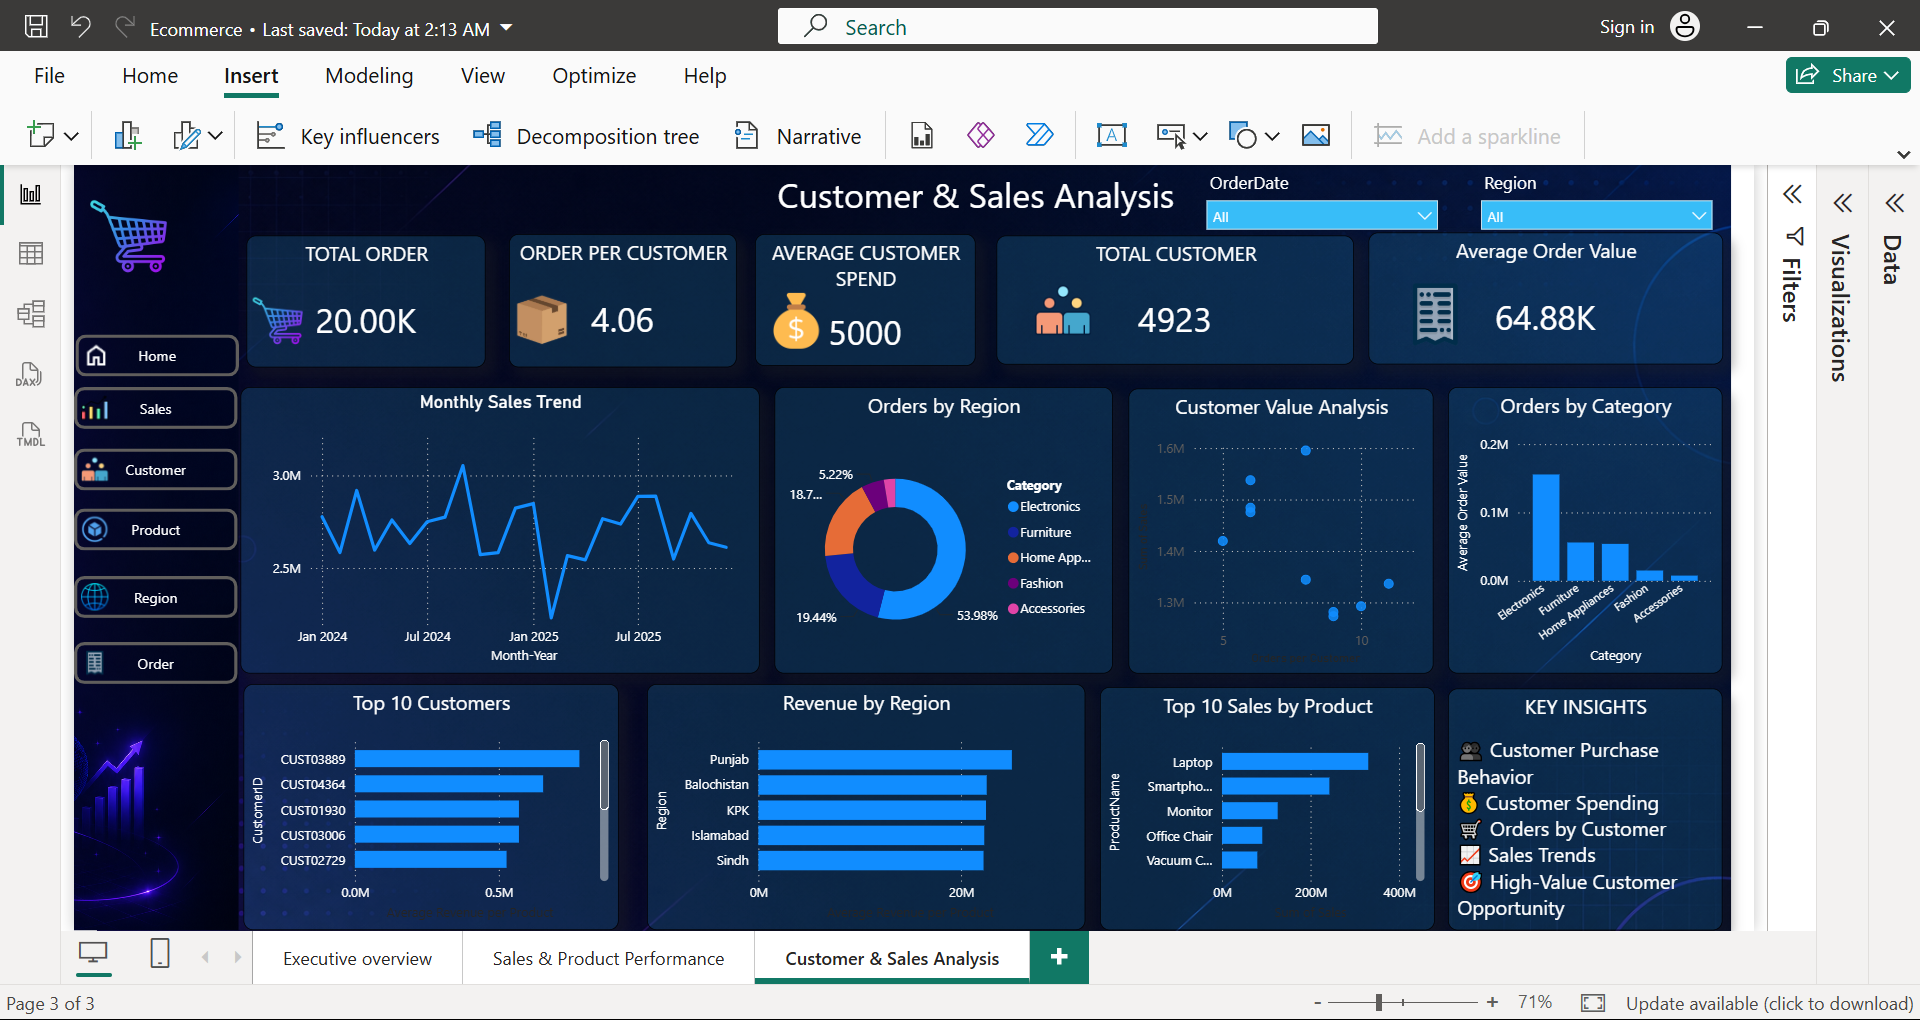

What the dashboard file says about the page in this screenshot:
{"tool":"powerbi","page":{"name":"Customer & Sales Analysis","canvas":[1580,720],"ordinal":2},"visuals":[{"type":"card","title":"TOTAL ORDER","fields":{"Values":["Count(ecommerce_orders.OrderID)"]},"box":[162.6,66.9,224.7,124.3],"z":0},{"type":"image","box":[162.6,117.9,59,55.8],"z":1000},{"type":"card","title":"ORDER PER CUSTOMER","fields":{"Values":["customers.Orders per Customer"]},"box":[409.3,65.1,214.3,125.5],"z":2000},{"type":"card","title":"AVERAGE CUSTOMER SPEND","fields":{"Values":["CountNonNull(customers.Average Customer Spending)"]},"box":[640.5,65.1,207.4,124.2],"z":3000},{"type":"card","title":"Average Order Value","fields":{"Values":["customers.Average Order Value"]},"box":[1216.1,63.8,333.1,124.3],"z":4000},{"type":"card","title":"TOTAL CUSTOMER","fields":{"Values":["Count(ecommerce_orders.CustomerID)"]},"box":[867,66.9,336.3,121.1],"z":5000},{"type":"image","box":[0,0,154.4,719.2],"z":6000},{"type":"image","box":[5.6,24,91.6,86],"z":7000},{"type":"textbox","box":[135.5,0,1424.9,66.9],"z":8000},{"type":"image","box":[884.6,110,90.8,52.6],"z":9000},{"type":"image","box":[1236.8,106.8,86.1,66.9],"z":10000},{"type":"lineChart","title":"Monthly Sales Trend","fields":{"Category":["ecommerce_orders.OrderDate.Variation.Date Hierarchy.Year","ecommerce_orders.OrderDate.Variation.Date Hierarchy.Month"],"Y":["customers.Average Revenue per Product"]},"box":[156.5,208.7,487.8,269.3],"z":11000},{"type":"donutChart","title":"Orders by Region","fields":{"Category":["products.Category"],"Y":["customers.Average Order Value"]},"box":[657.9,209.3,317.7,269.1],"z":12000},{"type":"scatterChart","title":"Customer Value Analysis","fields":{"X":["customers.Orders per Customer"],"Y":["Sum(ecommerce_orders.Sales)"],"Category":["customers.CustomerID"]},"box":[991.4,209.9,286.9,268.3],"z":13000},{"type":"clusteredBarChart","title":"Top 10 Customers","fields":{"Category":["customers.CustomerID"],"Y":["customers.Average Revenue per Product"]},"box":[159.3,487.8,352.5,231.2],"z":14000},{"type":"clusteredBarChart","title":"Revenue by Region","fields":{"Category":["customers.Region"],"Y":["customers.Average Revenue per Product"]},"box":[538.6,487.8,411.7,231.2],"z":15000},{"type":"clusteredBarChart","title":"Top 10 Sales by Product","fields":{"Category":["ecommerce_orders.ProductName"],"Y":["Sum(ecommerce_orders.Sales)"]},"box":[964.4,490.7,314.4,228.4],"z":16000},{"type":"clusteredColumnChart","title":"Orders by Category","fields":{"Category":["products.Category"],"Y":["customers.Average Order Value"]},"box":[1291.5,209.3,257.9,269.1],"z":17000},{"type":"textbox","title":"KEY INSIGHTS","box":[1291.5,492.1,258,227],"z":18000},{"type":"slicer","fields":{"Values":["ecommerce_orders.OrderDate"]},"box":[1054.2,0,237.4,63.5],"z":19000},{"type":"slicer","fields":{"Values":["ecommerce_orders.Region"]},"box":[1312.1,0,237.4,63.5],"z":20000},{"type":"actionButton","box":[1.4,159.3,153.7,39.5],"z":21000},{"type":"actionButton","box":[0,208.8,153.7,39.5],"z":22000},{"type":"actionButton","box":[0,266.2,153.7,39.5],"z":23000},{"type":"actionButton","box":[0,323.5,153.7,39.5],"z":24000},{"type":"actionButton","box":[0,385.7,153.7,39.5],"z":25000},{"type":"actionButton","box":[0,447.9,153.7,39.5],"z":26000},{"type":"image","box":[641.1,117.8,74.8,56.1],"z":27000},{"type":"image","box":[409.3,106.5,61.7,76.6],"z":28000}]}

Visuals, with their boxes on the page's 1580x720 design canvas (x1, y1, x2, y2). These are canvas units, not pixel positions in the 1920x1020 screenshot, which may show the page scaled, cropped or inside an application window:
"TOTAL ORDER" card: bbox=[163, 67, 387, 191]
image: bbox=[163, 118, 222, 174]
"ORDER PER CUSTOMER" card: bbox=[409, 65, 624, 191]
"AVERAGE CUSTOMER SPEND" card: bbox=[640, 65, 848, 189]
"Average Order Value" card: bbox=[1216, 64, 1549, 188]
"TOTAL CUSTOMER" card: bbox=[867, 67, 1203, 188]
image: bbox=[0, 0, 154, 719]
image: bbox=[6, 24, 97, 110]
textbox: bbox=[136, 0, 1560, 67]
image: bbox=[885, 110, 975, 163]
image: bbox=[1237, 107, 1323, 174]
"Monthly Sales Trend" lineChart: bbox=[156, 209, 644, 478]
"Orders by Region" donutChart: bbox=[658, 209, 976, 478]
"Customer Value Analysis" scatterChart: bbox=[991, 210, 1278, 478]
"Top 10 Customers" clusteredBarChart: bbox=[159, 488, 512, 719]
"Revenue by Region" clusteredBarChart: bbox=[539, 488, 950, 719]
"Top 10 Sales by Product" clusteredBarChart: bbox=[964, 491, 1279, 719]
"Orders by Category" clusteredColumnChart: bbox=[1292, 209, 1549, 478]
"KEY INSIGHTS" textbox: bbox=[1292, 492, 1550, 719]
slicer - ecommerce_orders.OrderDate: bbox=[1054, 0, 1292, 64]
slicer - ecommerce_orders.Region: bbox=[1312, 0, 1550, 64]
actionButton: bbox=[1, 159, 155, 199]
actionButton: bbox=[0, 209, 154, 248]
actionButton: bbox=[0, 266, 154, 306]
actionButton: bbox=[0, 324, 154, 363]
actionButton: bbox=[0, 386, 154, 425]
actionButton: bbox=[0, 448, 154, 487]
image: bbox=[641, 118, 716, 174]
image: bbox=[409, 106, 471, 183]
